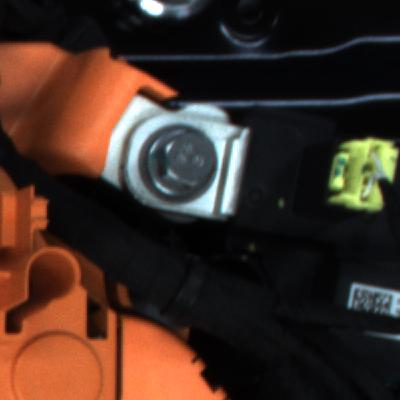nut_b: (138, 120, 227, 204)
